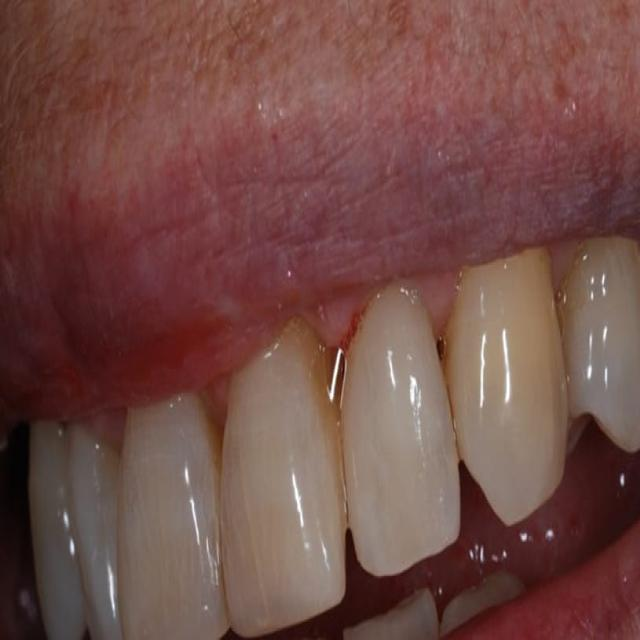tooth: (210, 316, 350, 612), (350, 257, 454, 584), (454, 257, 568, 512), (108, 421, 222, 640), (568, 244, 640, 451), (20, 389, 70, 619), (74, 426, 114, 619)
